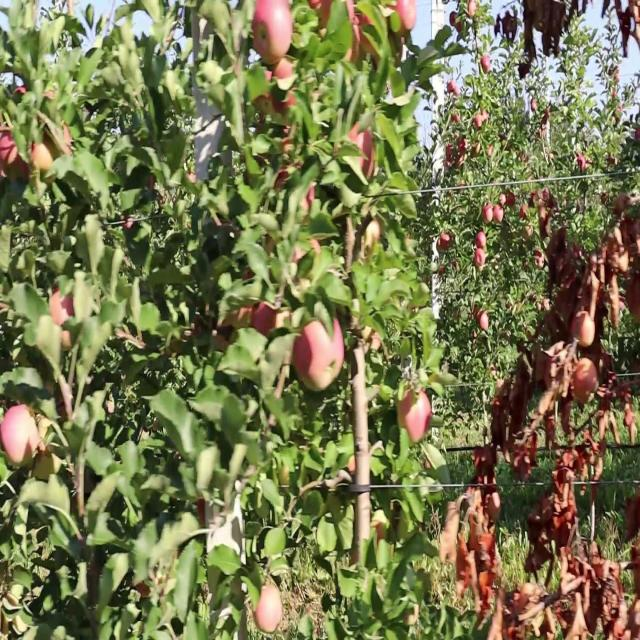apple: (300, 319, 344, 389), (252, 0, 294, 66), (292, 319, 336, 382), (4, 405, 37, 468), (400, 391, 432, 443), (272, 56, 297, 121), (348, 127, 376, 180), (256, 583, 284, 635), (292, 241, 321, 290), (52, 291, 76, 348), (273, 79, 297, 135), (272, 56, 297, 107), (52, 284, 76, 332), (56, 383, 82, 425), (556, 248, 583, 286), (576, 362, 599, 404), (356, 7, 376, 55), (252, 305, 277, 340), (572, 312, 596, 348), (580, 270, 600, 313), (580, 277, 601, 316), (556, 284, 577, 322), (308, 0, 333, 30), (32, 142, 54, 176), (36, 142, 55, 180), (476, 447, 496, 482), (52, 127, 73, 160), (36, 419, 54, 457), (348, 7, 360, 64), (364, 220, 383, 254), (396, 7, 418, 36), (536, 533, 554, 567), (12, 149, 31, 181), (484, 490, 502, 523), (0, 135, 16, 172), (272, 56, 293, 84), (544, 355, 560, 389), (440, 533, 456, 567), (528, 511, 543, 546), (628, 277, 640, 320), (348, 21, 360, 64), (12, 85, 30, 110), (588, 341, 604, 368), (548, 312, 563, 340), (552, 227, 568, 252), (196, 497, 208, 530), (604, 234, 619, 260), (476, 305, 490, 332), (620, 220, 634, 247), (536, 348, 547, 382), (304, 184, 316, 215), (628, 504, 637, 540), (280, 462, 292, 489), (16, 85, 29, 105), (452, 14, 464, 34), (540, 213, 552, 233), (552, 7, 566, 23), (440, 234, 452, 252), (476, 248, 486, 268), (480, 312, 490, 332), (616, 199, 627, 217), (476, 234, 488, 249), (504, 191, 516, 206), (348, 7, 357, 27), (504, 14, 512, 36), (496, 206, 504, 226), (484, 206, 492, 226), (556, 7, 566, 23), (520, 63, 530, 78), (553, 21, 560, 41), (544, 35, 551, 55), (468, 7, 478, 20), (500, 191, 508, 206), (532, 191, 540, 206), (528, 1, 535, 14), (580, 156, 586, 169)
